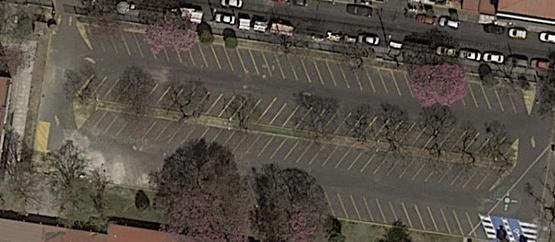parkingspot: (82, 24, 530, 117), (74, 73, 518, 161), (77, 108, 509, 192), (323, 189, 490, 241)
